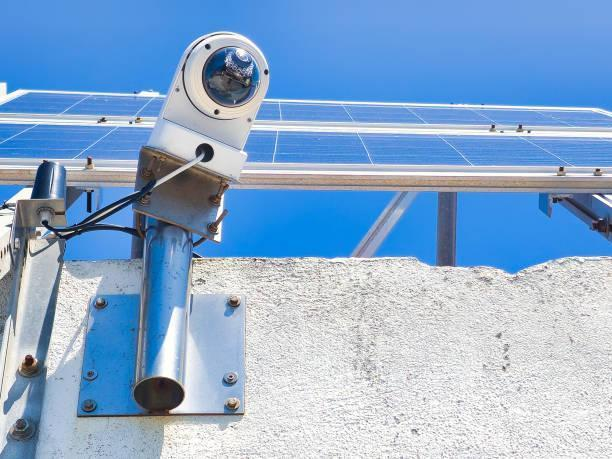camera: (130, 16, 294, 187)
